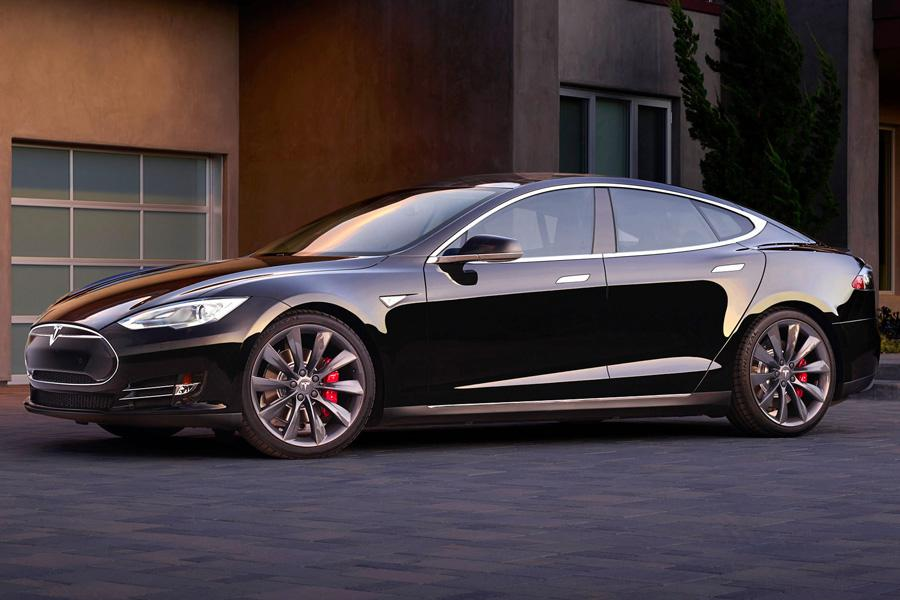car: (27, 151, 891, 490)
